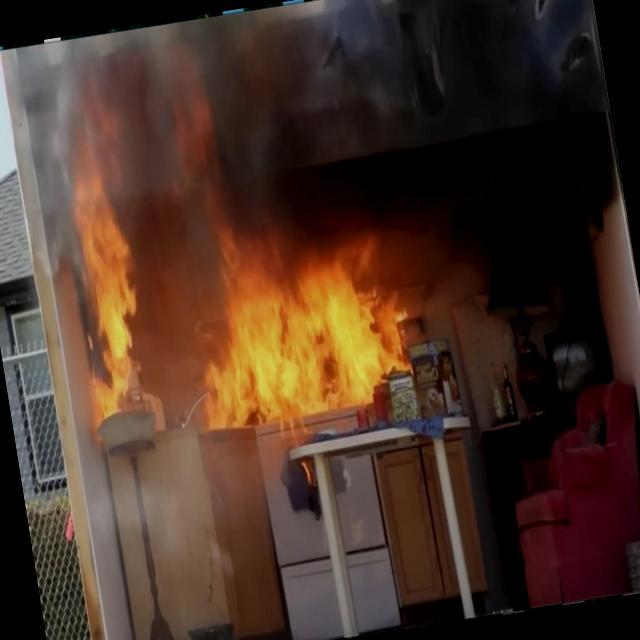fire: (61, 191, 447, 490)
